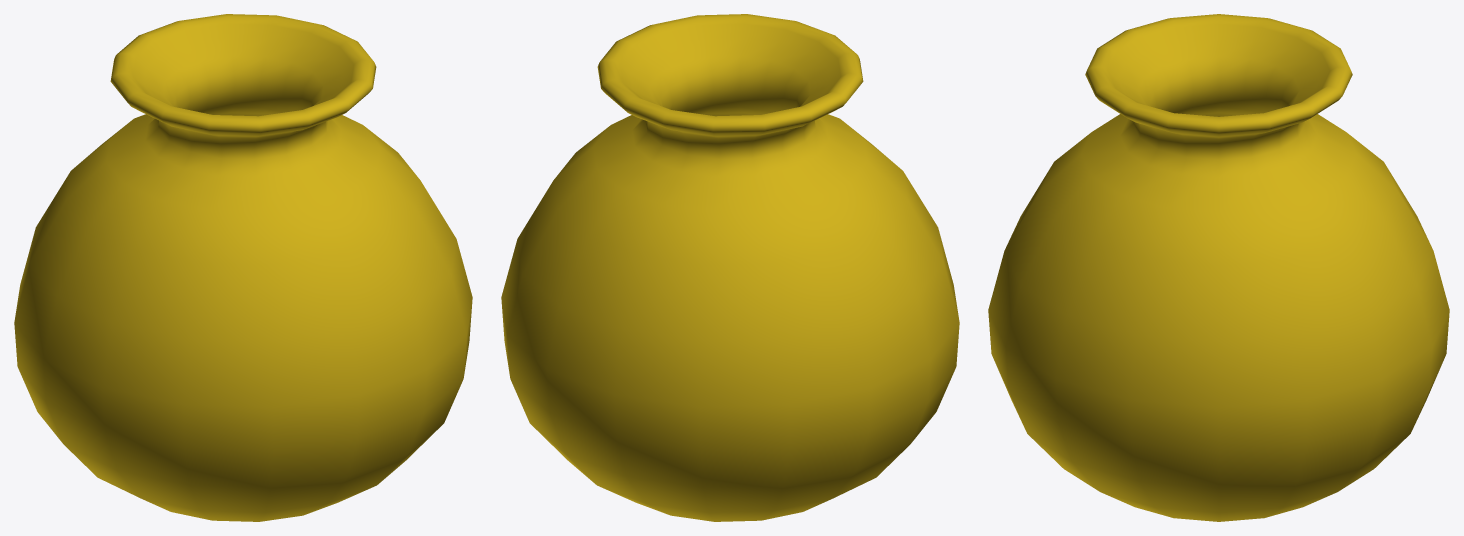
Rendered from Krug_var5.obj.
The picture shows the model from 3 angles, left to right: view 1: azimuth 30°, elevation 25°; view 2: azimuth 150°, elevation 25°; view 3: azimuth 270°, elevation 25°; orthographic projection.
Parts seen in each view (by area): view 1: Krug_4; view 2: Krug_4; view 3: Krug_4.
Boxes of the visible parts, x1=… form: Krug_4: x1=14, y1=14, x2=472, y2=521; Krug_4: x1=501, y1=14, x2=959, y2=521; Krug_4: x1=988, y1=14, x2=1449, y2=521.
Bounding box in the file's own units: 0.4045 × 0.4096 × 0.4045.
